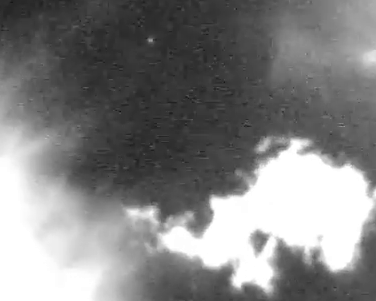Target: (148, 39, 153, 42)
